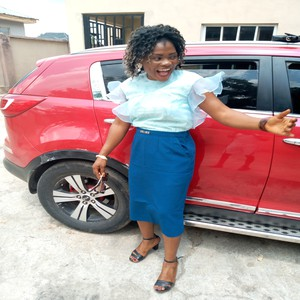Fulokoja_female_student: (113, 25, 194, 272)
